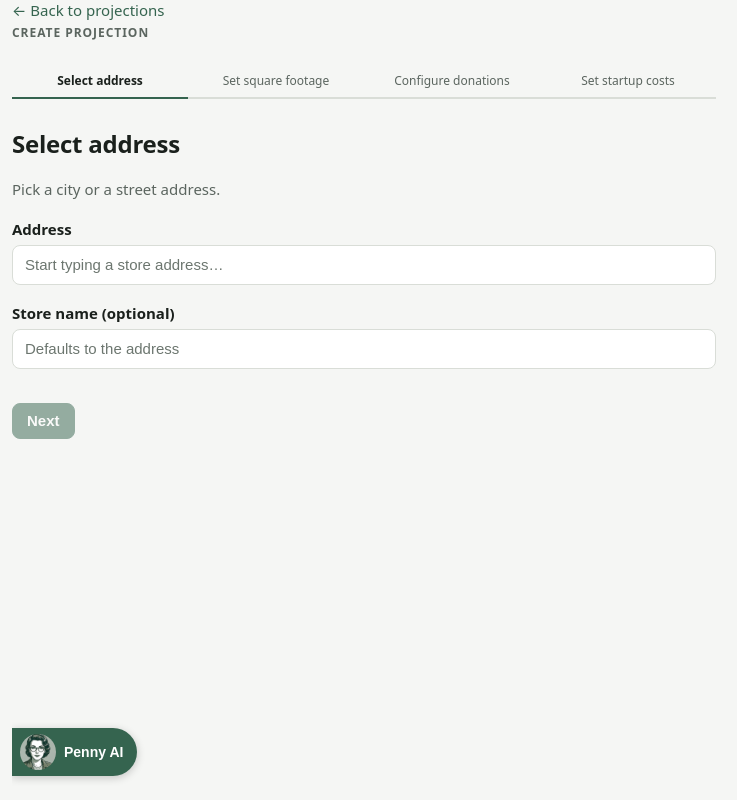
Test: CreateProjectionPage — planning-estimates disclaimer (audit P1, Task 2.5) › renders the disclaimer paragraph on the last step, above Generate
Type "Dallas" into the dropdown labelled "Address" at (364, 265), box [12,245,716,285]
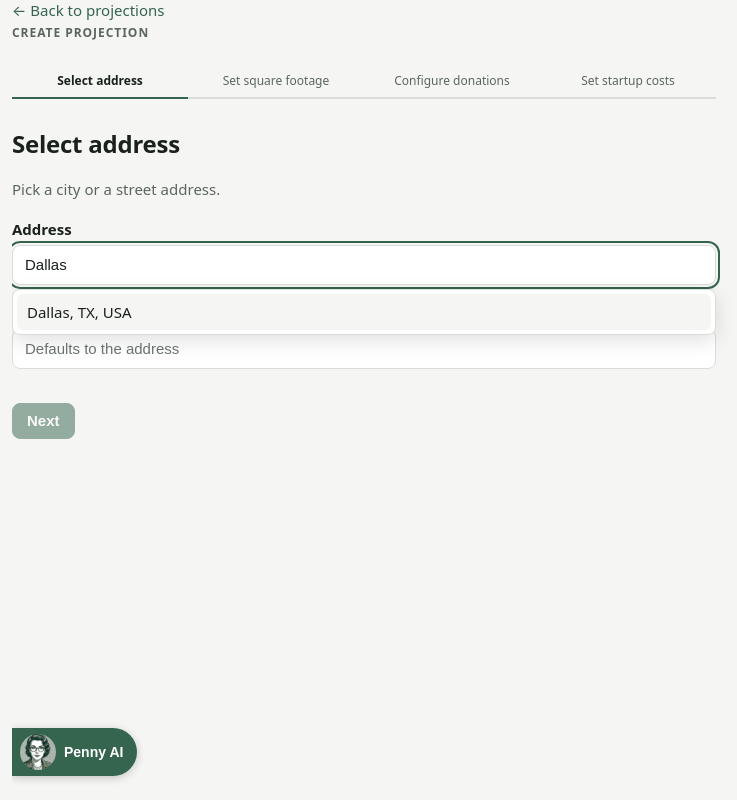
Click the option "Dallas, TX, USA" at (79, 312), box [17,294,711,330]
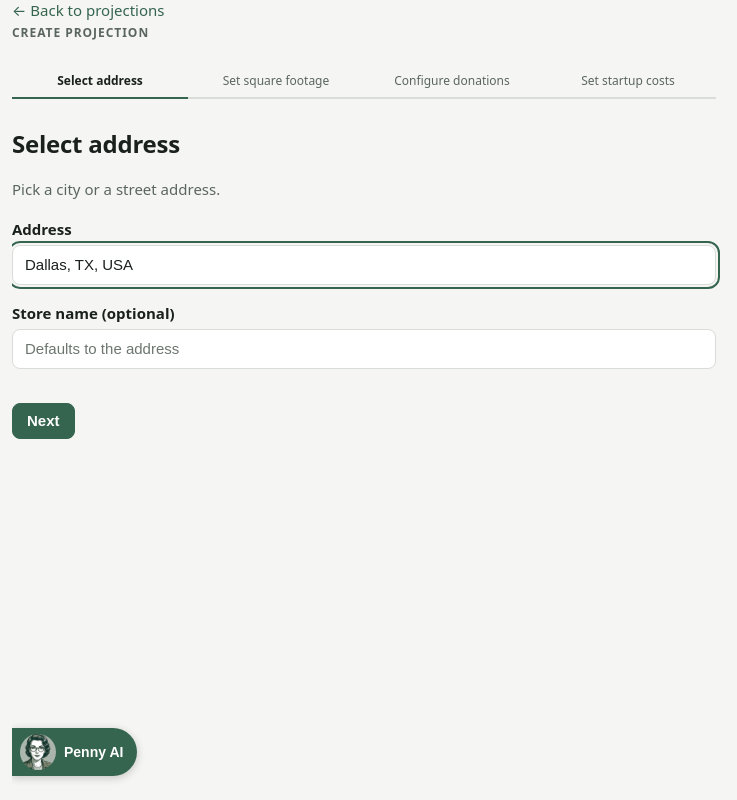
Check: the button "Next" is enabled
Click the button "Next" at (43, 421), box [12,403,74,439]
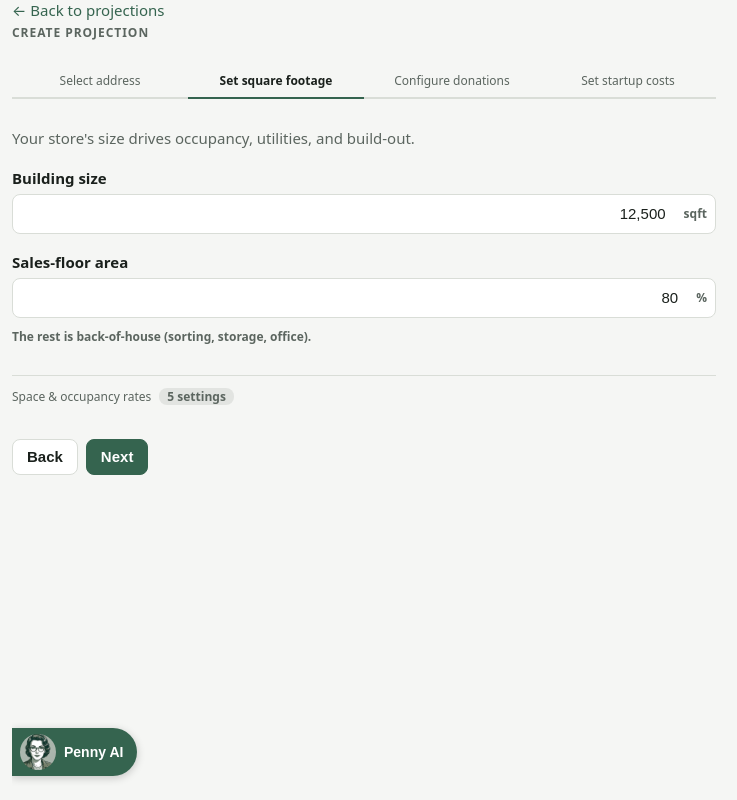
Click the button "Next" at (117, 457), box [86,439,148,475]
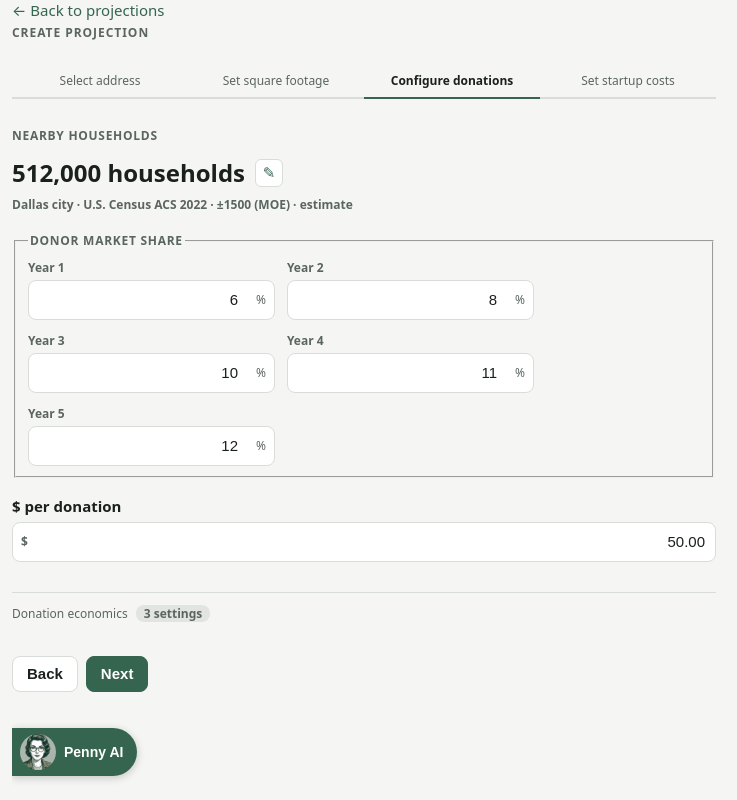
Click the button "Next" at (117, 674), box [86,656,148,692]
(page scrolled)
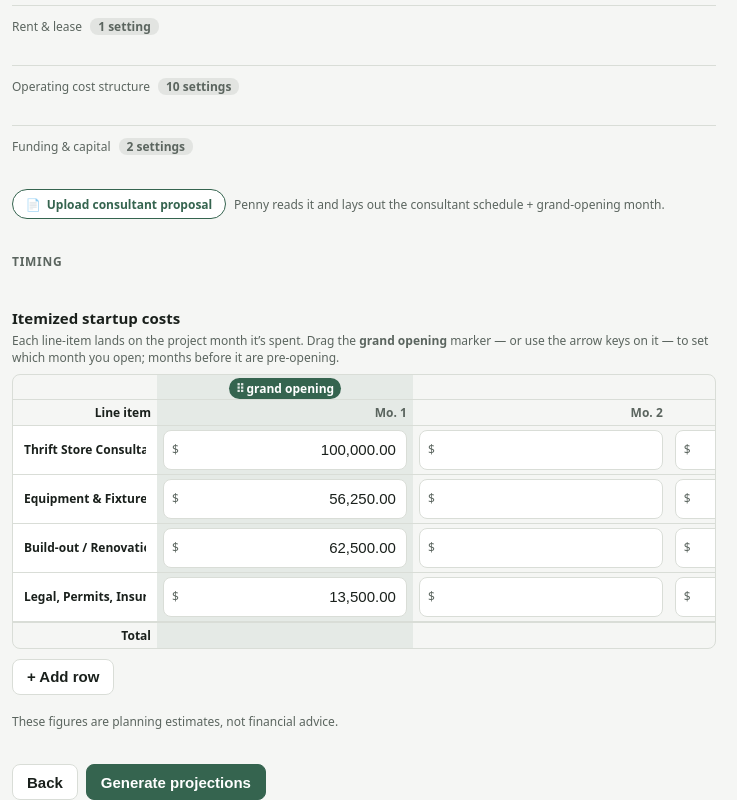
Check: the text "These figures are planning estimates, not financial advice." is shown, box [12,713,369,730]
